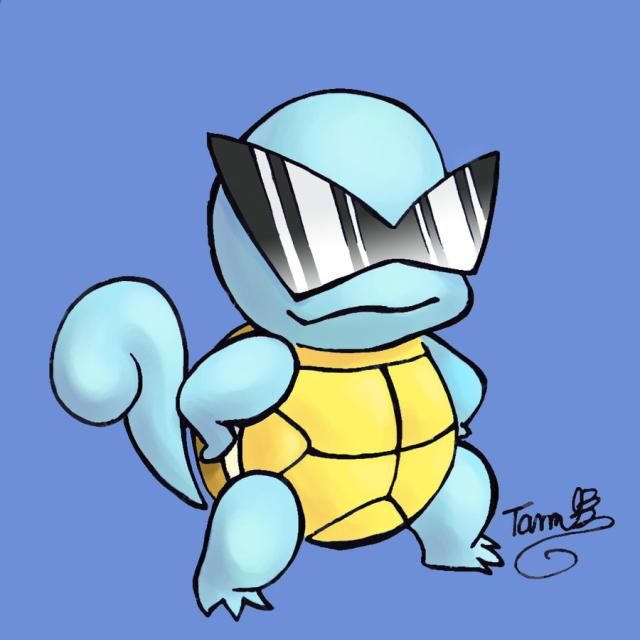Squirtle: (193, 91, 501, 577)
